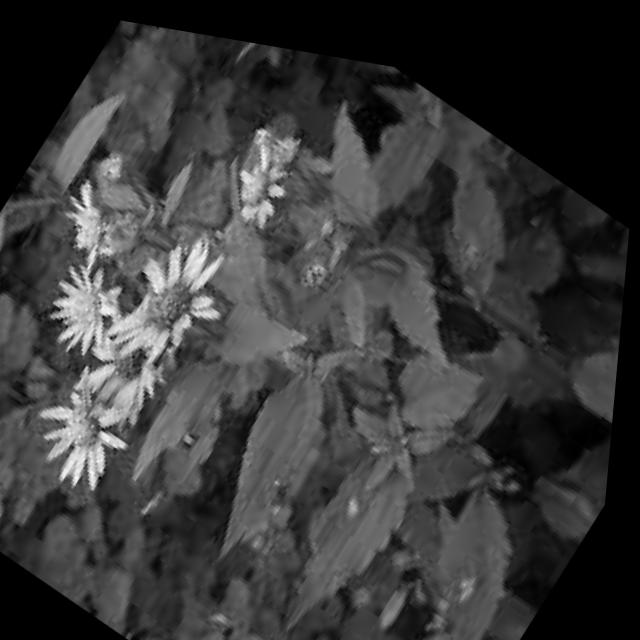Flower: (97, 205, 249, 387), (24, 352, 165, 526), (41, 240, 152, 365), (47, 159, 146, 278), (220, 122, 311, 229)
